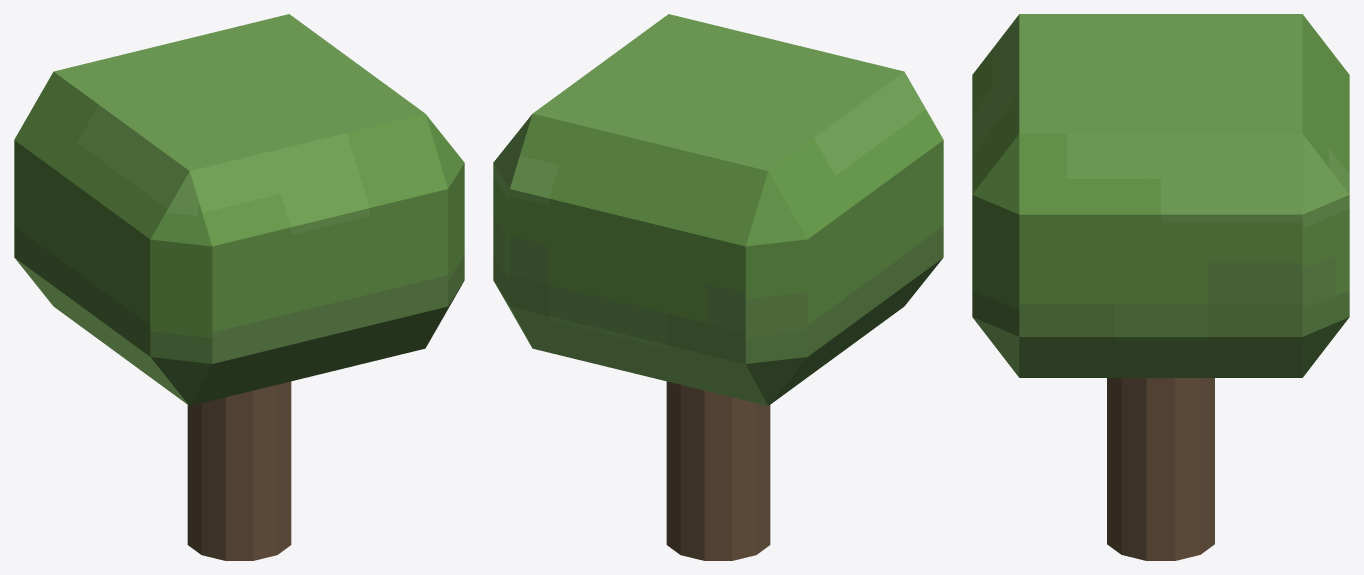
3 renders of one model, left to right at view 1: azimuth 30°, elevation 25°; view 2: azimuth 150°, elevation 25°; view 3: azimuth 270°, elevation 25°, orthographic. The views are drawn at different scales.
Parts seen in each view (by area): view 1: beveled_cuboid, cylinder; view 2: beveled_cuboid, cylinder; view 3: beveled_cuboid, cylinder.
Boxes of the visible parts, box(x1,y1,x2,y2) form: beveled_cuboid: box(14, 14, 464, 405); cylinder: box(187, 381, 291, 560); beveled_cuboid: box(493, 14, 943, 405); cylinder: box(666, 381, 770, 560); beveled_cuboid: box(972, 14, 1349, 377); cylinder: box(1107, 378, 1214, 560).
Bounding box in the file's own units: 43.75 × 59.38 × 43.75.
Materials: 2 (2 with a texture image).
